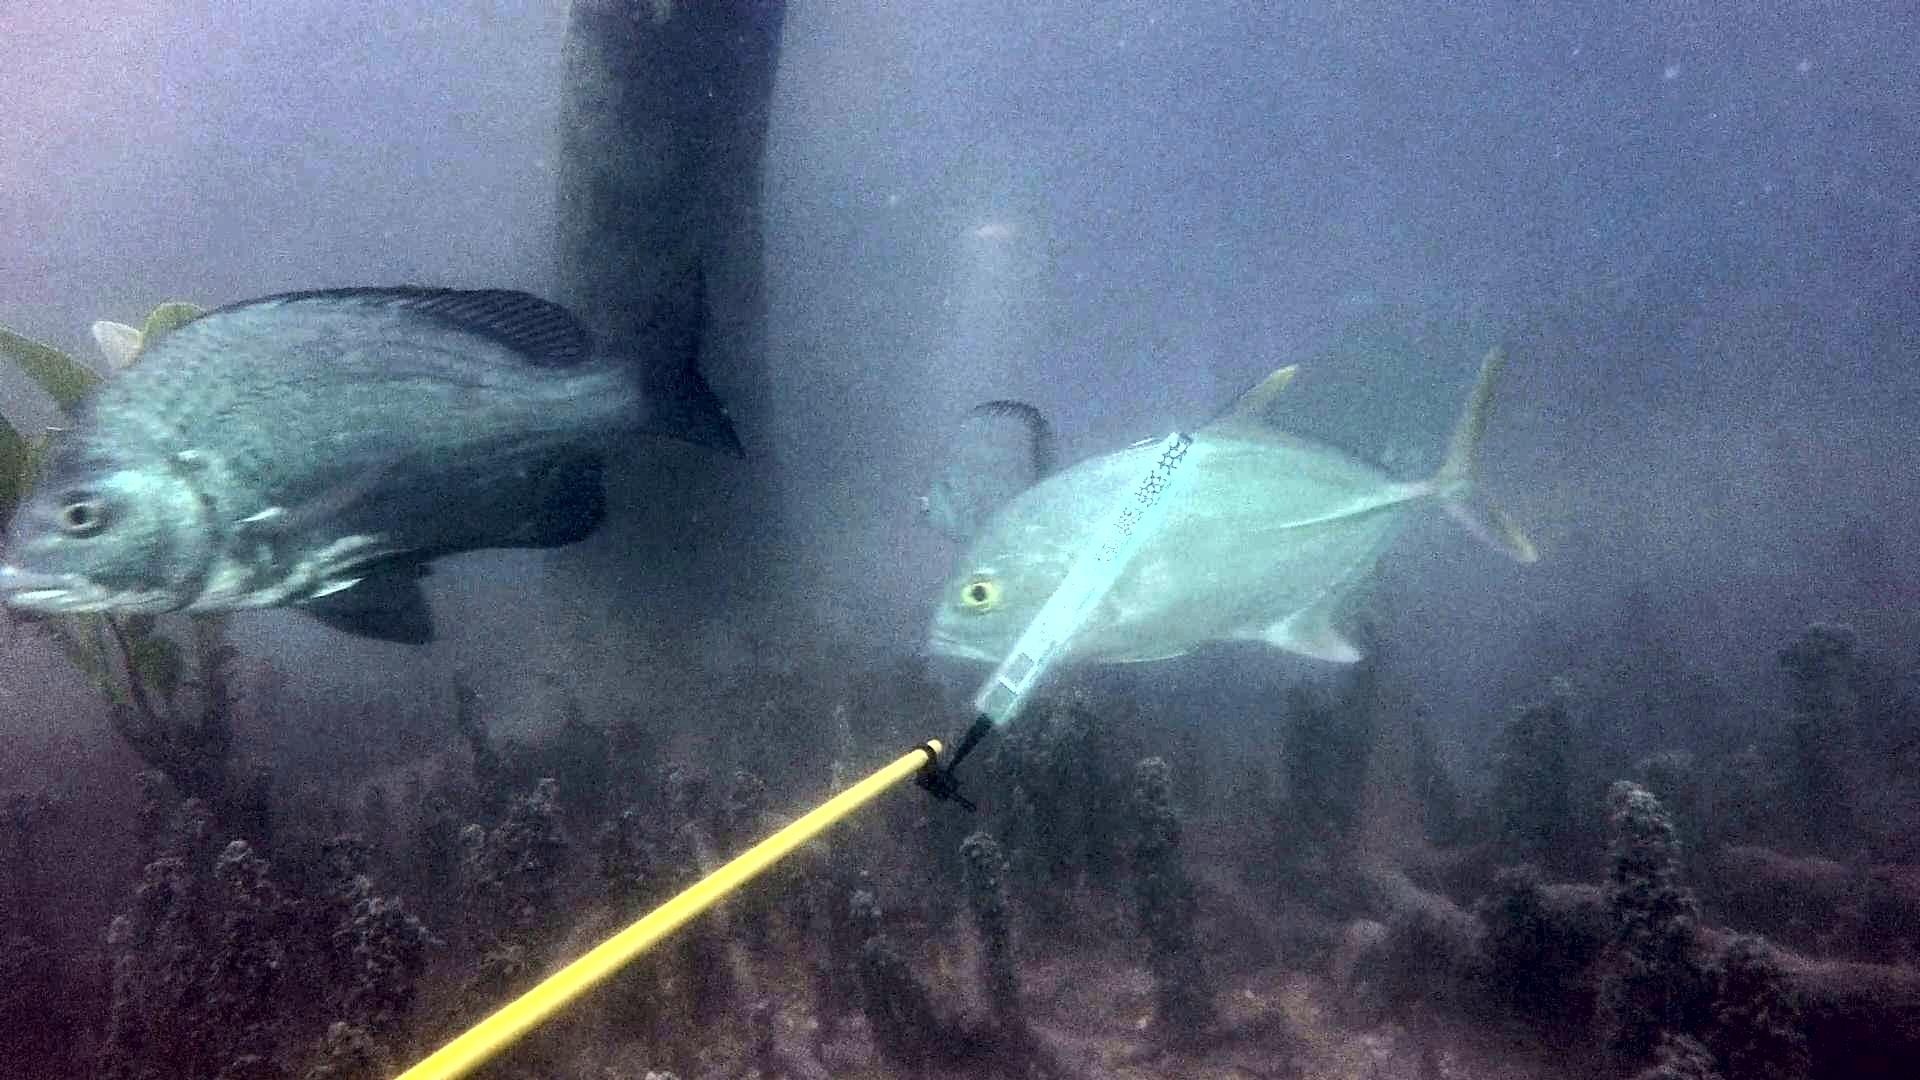acanthopagrus palmaris: (0, 273, 756, 657)
caranx: (922, 345, 1551, 682)
